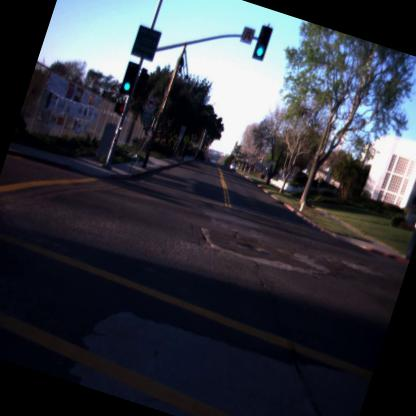trafficlight: (250, 21, 274, 63), (118, 60, 140, 96)
